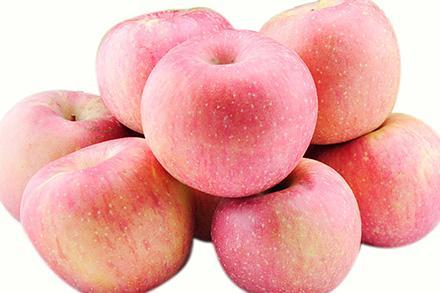apple: (141, 38, 319, 198), (20, 137, 196, 293), (1, 92, 149, 243), (251, 1, 398, 143), (202, 155, 356, 290), (306, 113, 439, 249), (94, 8, 225, 134)
